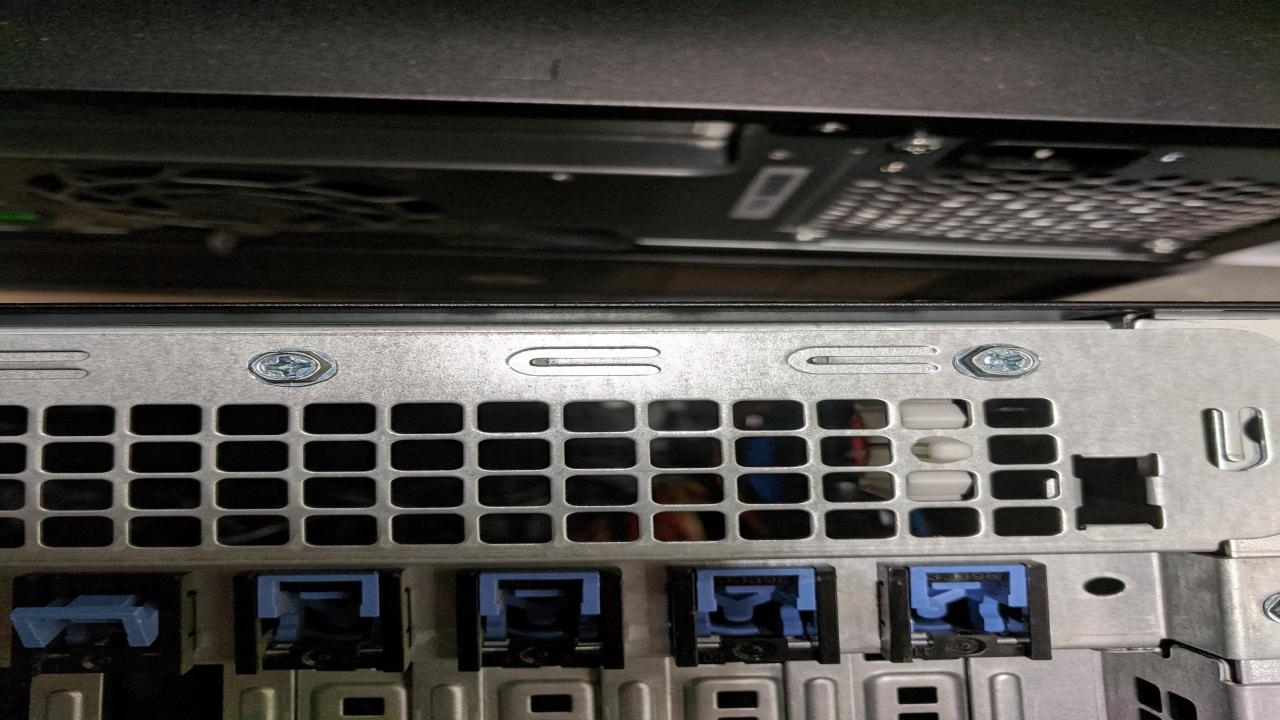CRS: (248, 349, 336, 386), (958, 344, 1044, 379)
